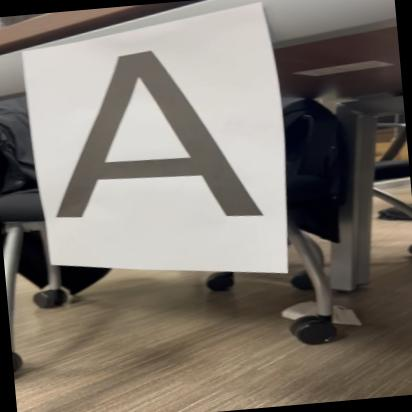seat: (31, 33, 280, 242)
